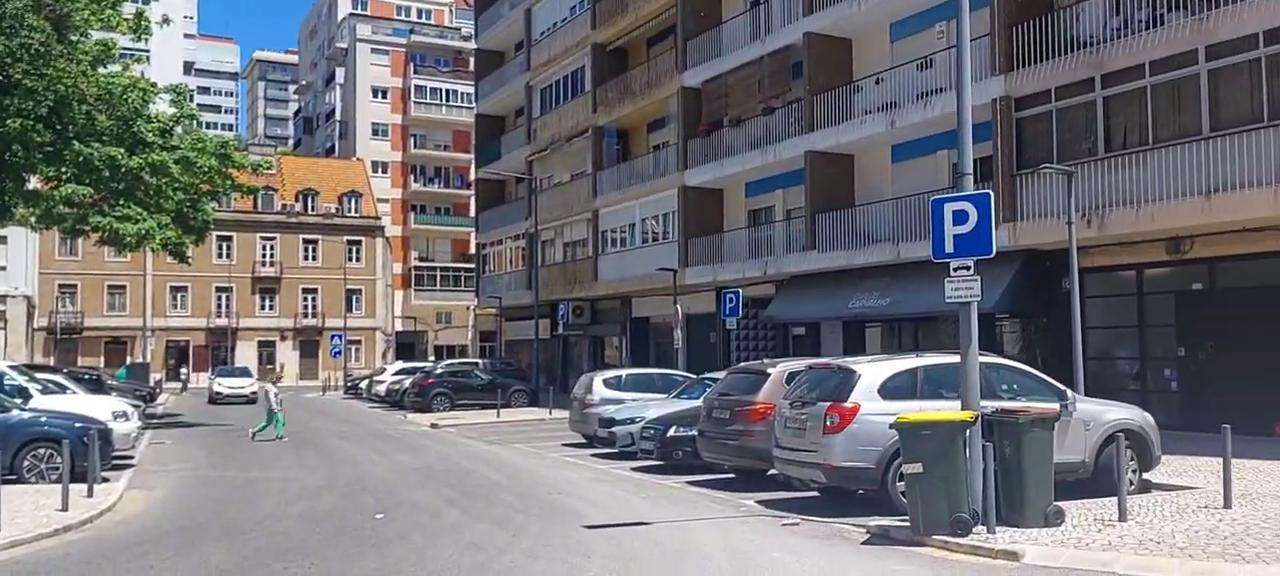Estacionamento autorizado: (924, 190, 1001, 265)
